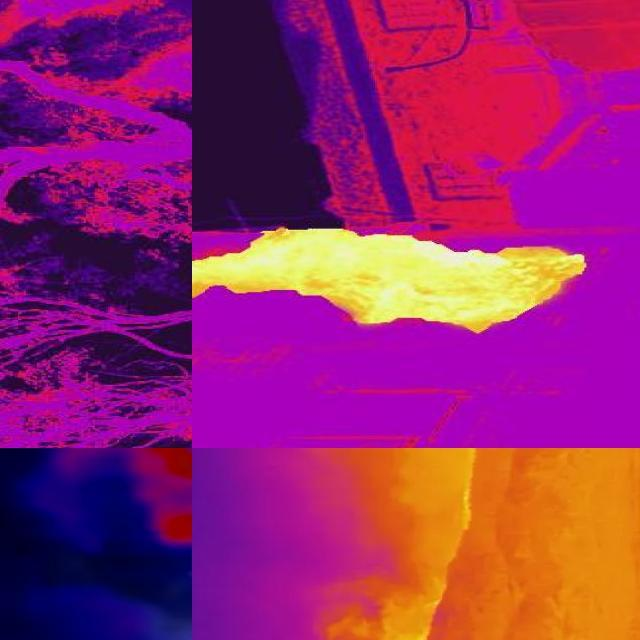fire: (196, 220, 591, 342), (414, 449, 640, 640)
